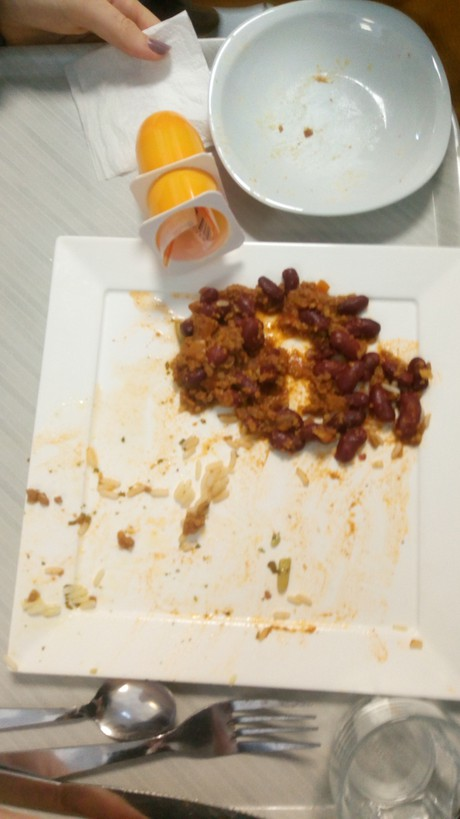orga: (185, 278, 434, 450)
trash: (51, 20, 214, 170), (123, 119, 236, 269)
